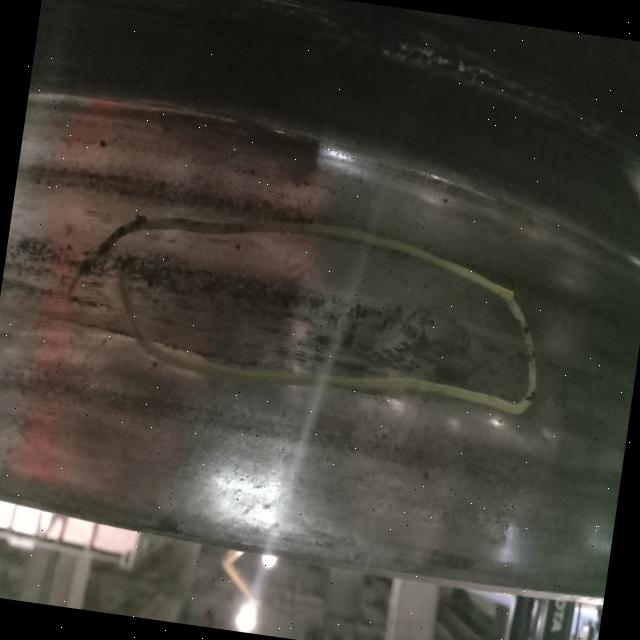flat: (147, 245, 488, 381)
